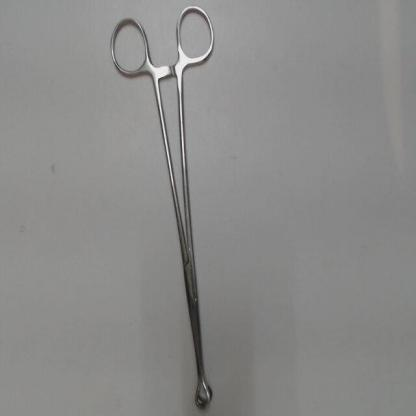8 Babcock Tissue Forceps: (101, 0, 219, 412)
